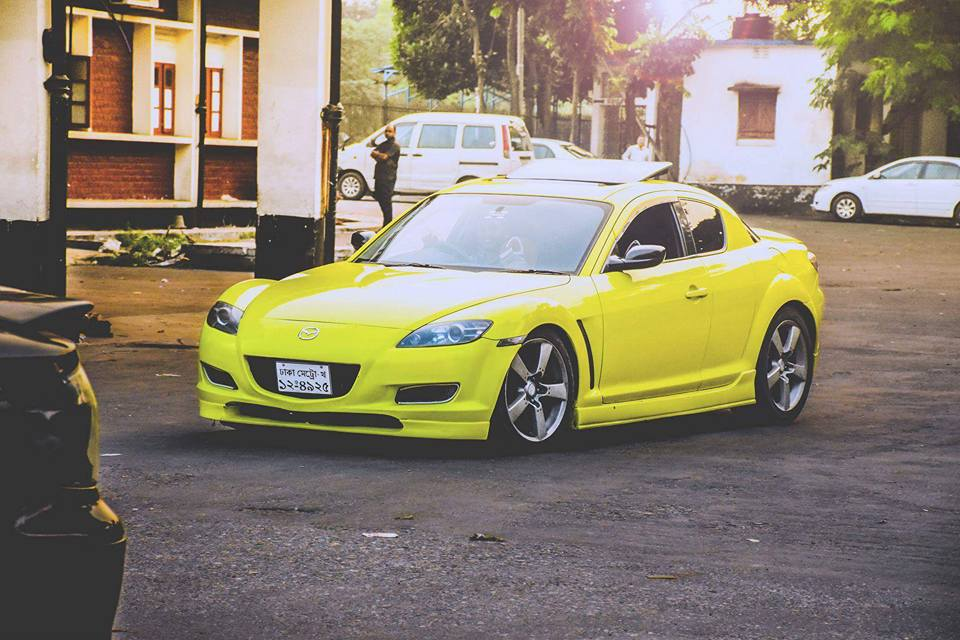registration_plate: (275, 361, 333, 395)
